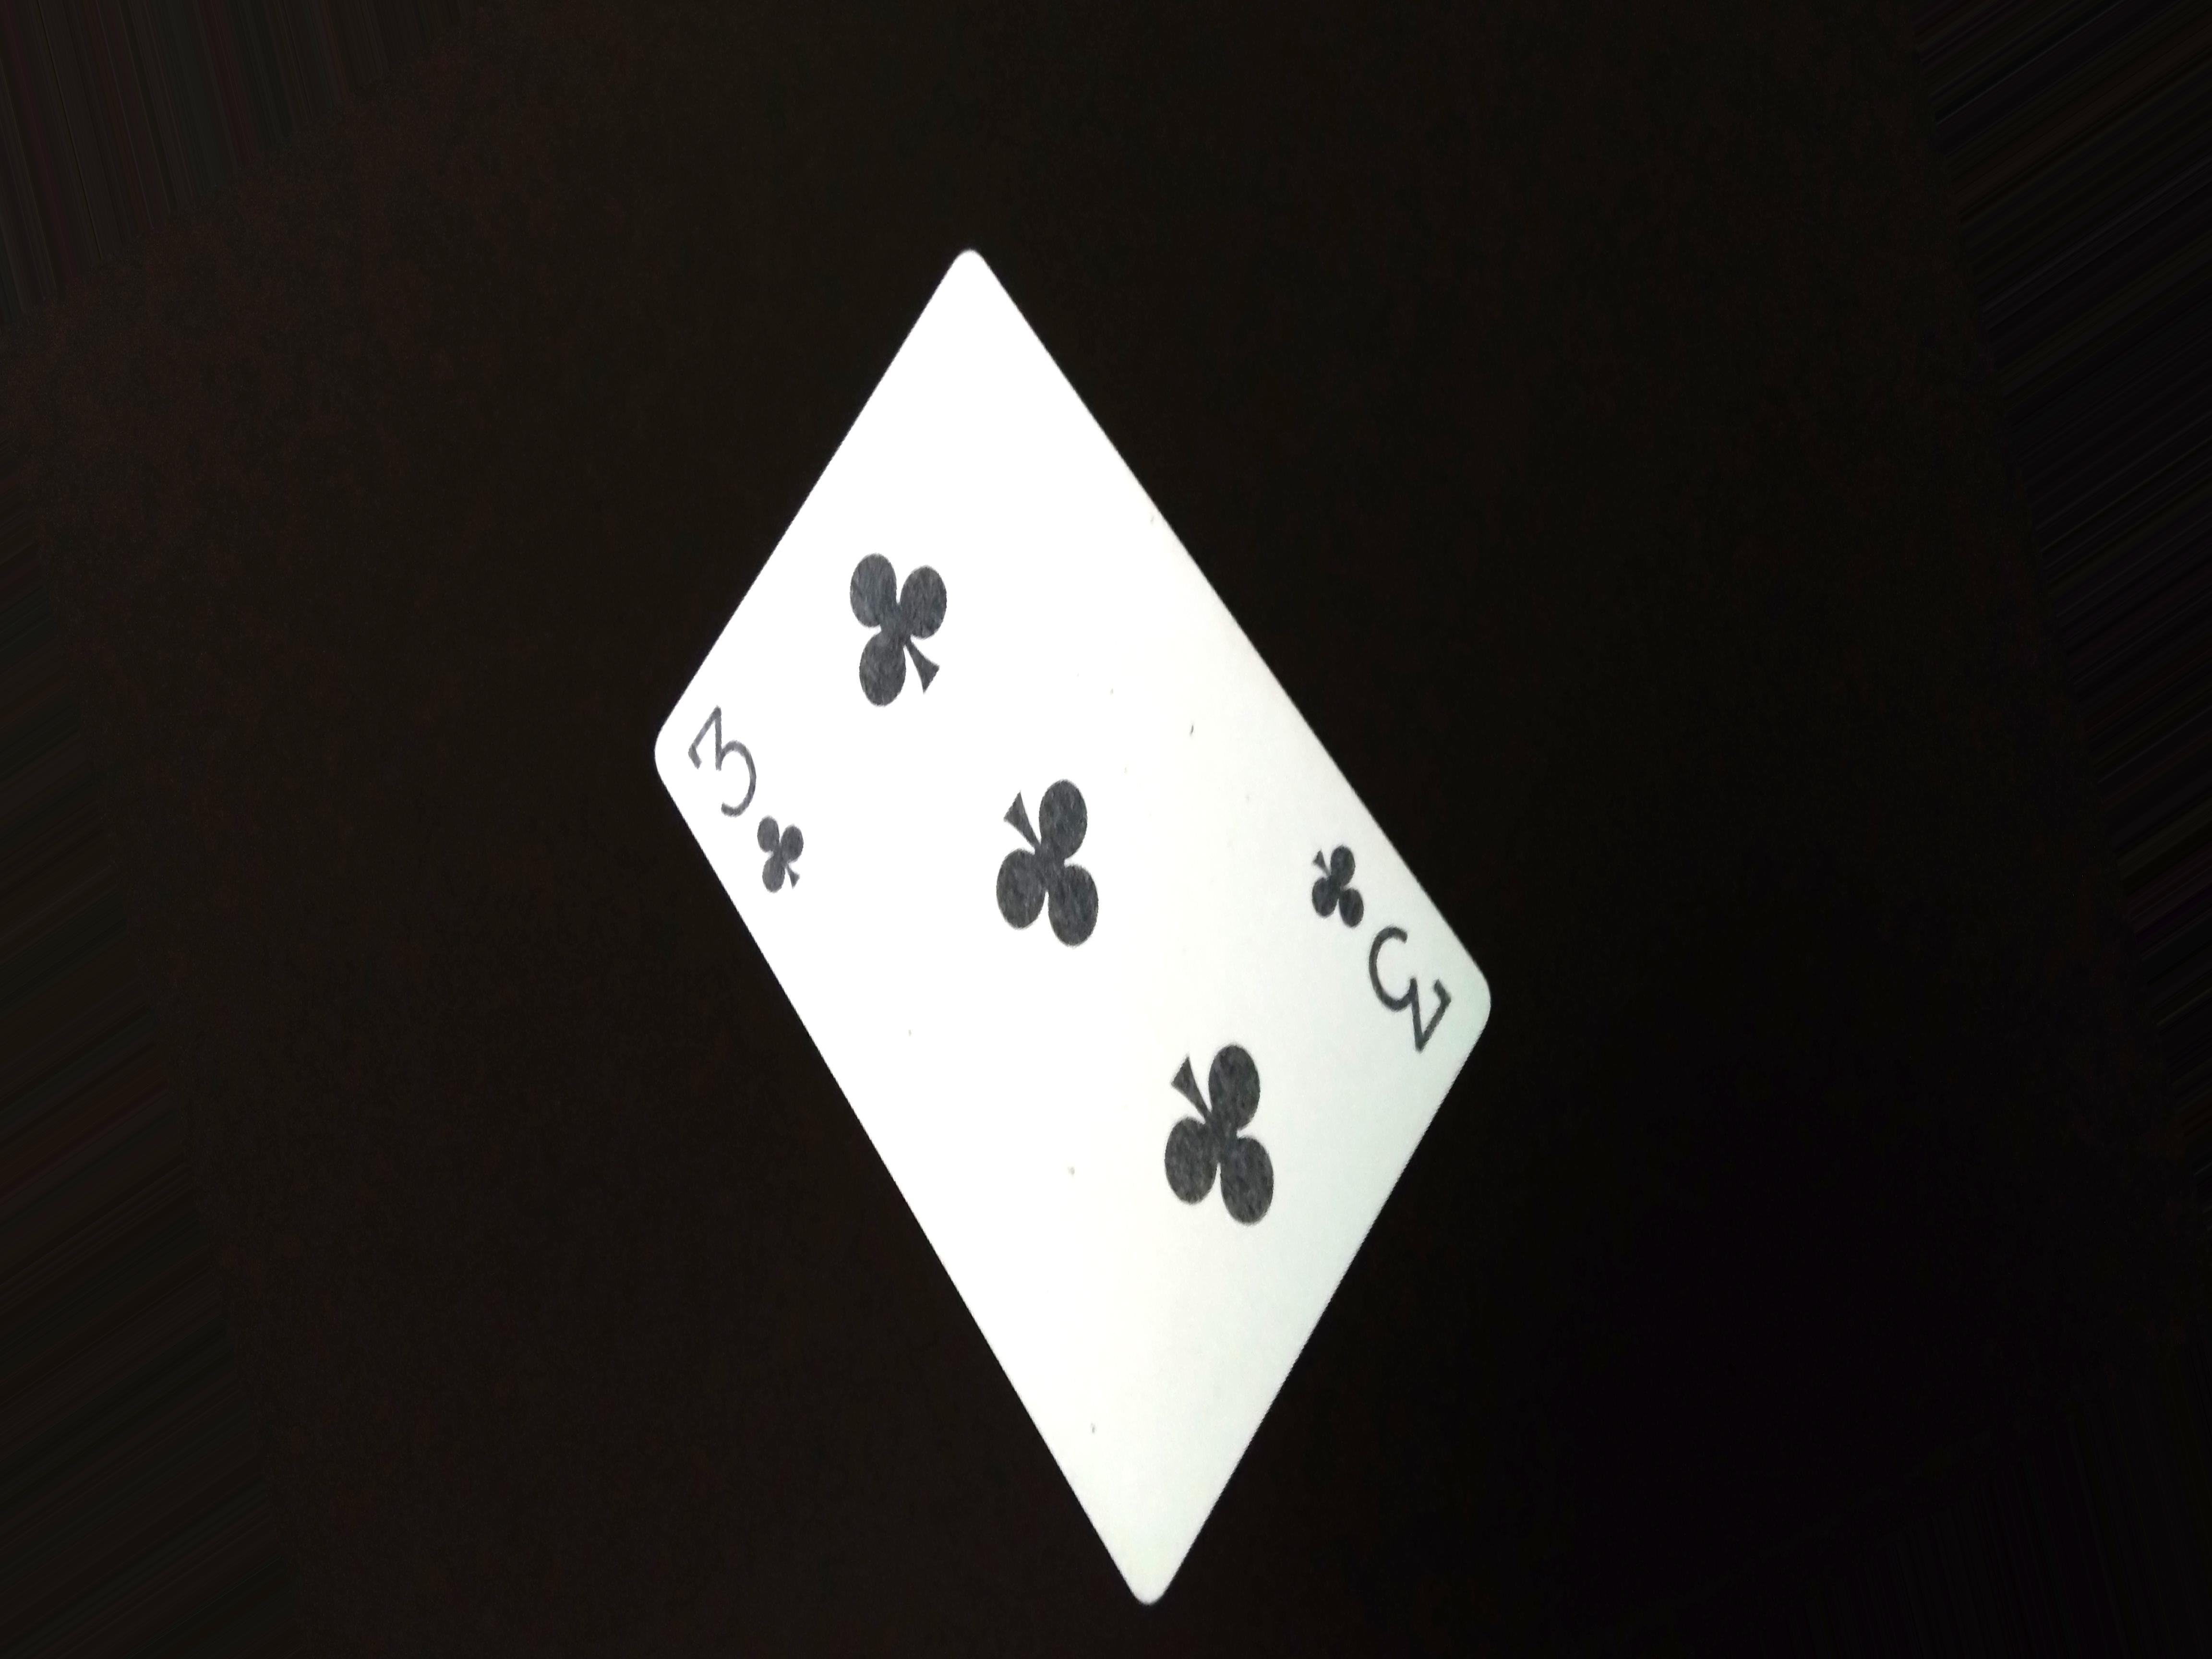3C: (667, 704, 848, 920)
